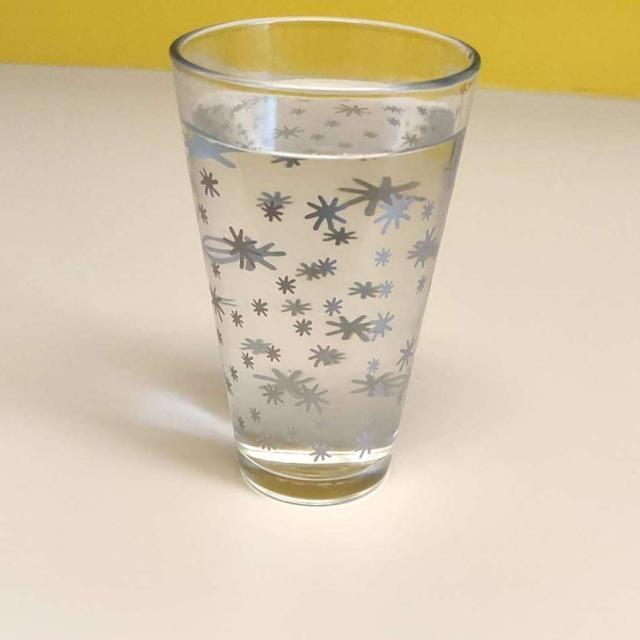water: (188, 29, 471, 477)
